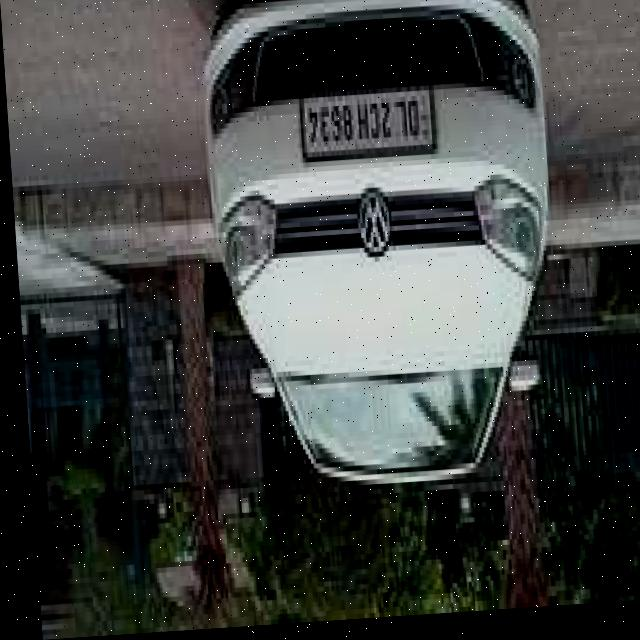plate: (297, 89, 436, 169)
